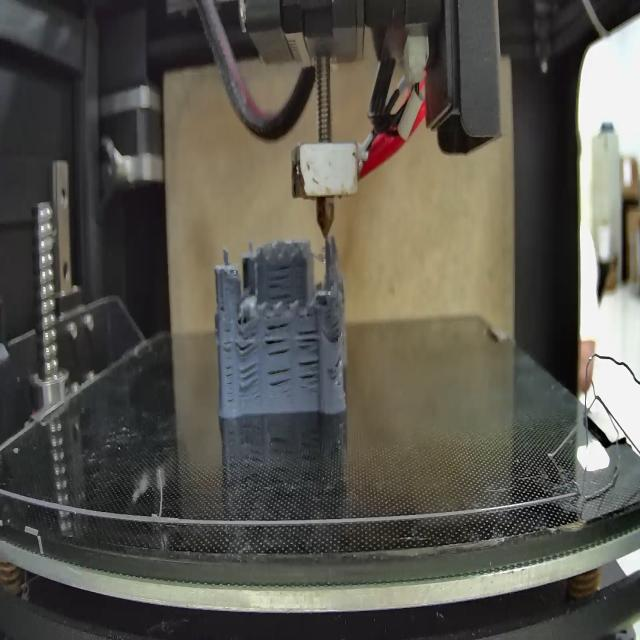cracks: (298, 324, 322, 389), (264, 262, 300, 300), (264, 317, 290, 358), (267, 362, 291, 392), (226, 328, 235, 403), (237, 330, 260, 356), (240, 362, 260, 391), (329, 314, 343, 339), (219, 296, 232, 321), (333, 353, 343, 379)
